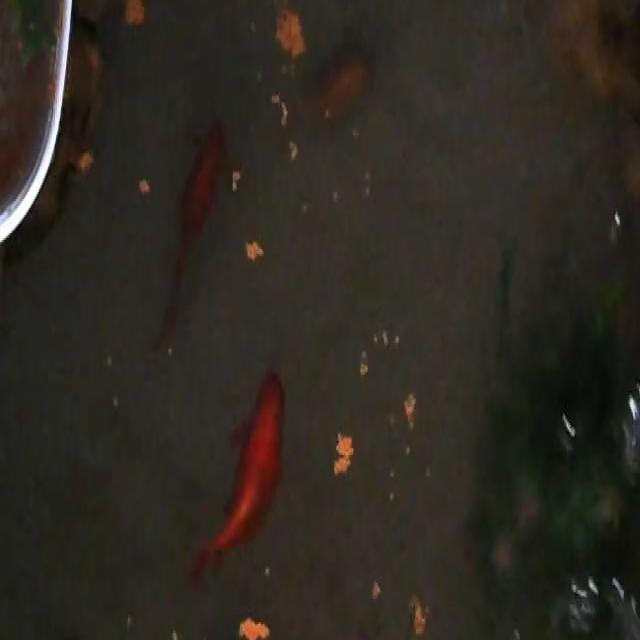fish: (189, 367, 285, 588), (149, 118, 227, 355), (292, 46, 372, 132)
